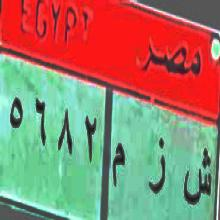2: (82, 111, 99, 177)
5: (8, 91, 24, 145)
6: (32, 90, 49, 152)
8: (56, 103, 75, 167)
meem: (112, 137, 126, 200)
sheen: (182, 147, 213, 215)
zay: (147, 132, 168, 204)
